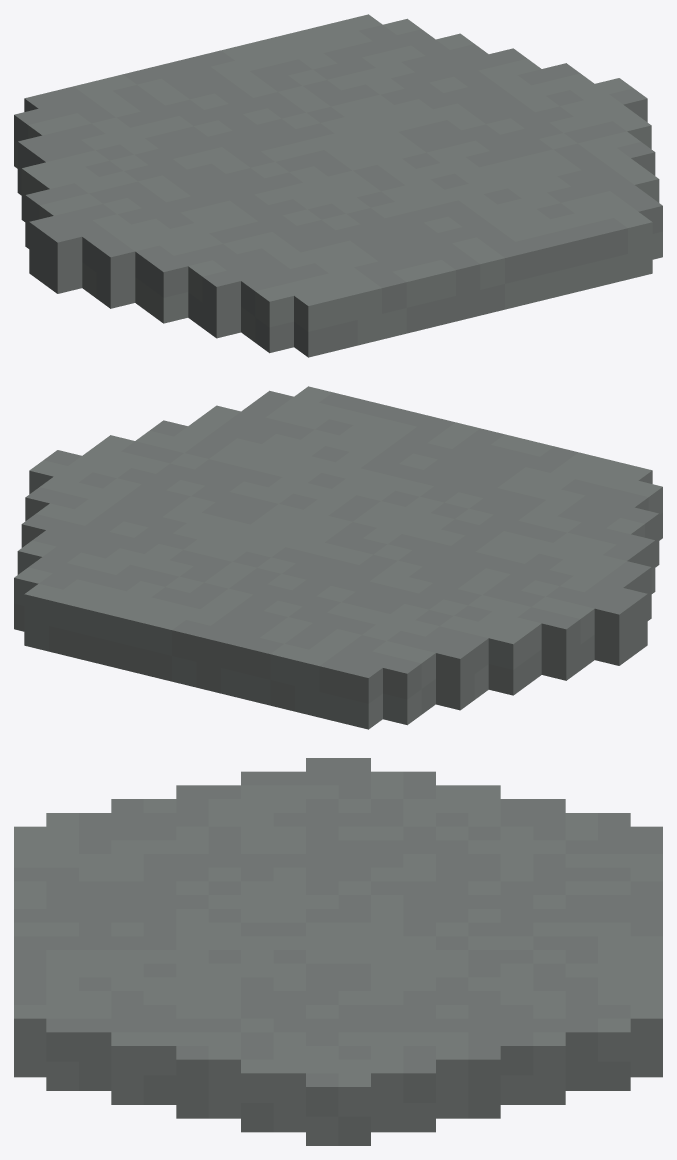
Rendered from overworld-28-stone_2px.obj.
3 views of the same model, one above another, from view 1: azimuth 30°, elevation 25°; view 2: azimuth 150°, elevation 25°; view 3: azimuth 270°, elevation 25° (orthographic). The views are drawn at different scales.
Parts seen in each view (by area): view 1: stone_2px; view 2: stone_2px; view 3: stone_2px.
Part boxes in pixels (bbox=[...]): stone_2px: bbox=[14, 14, 662, 357]; stone_2px: bbox=[14, 386, 662, 729]; stone_2px: bbox=[14, 758, 662, 1145].
Size of the model in its own units: 2.4 by 0.2 by 2.
Materials: 1 (1 with a texture image).
